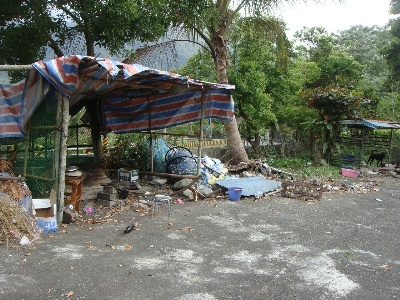bowl: (341, 167, 361, 179)
bucket: (228, 186, 243, 201)
plastic_bag: (1, 53, 235, 137)
